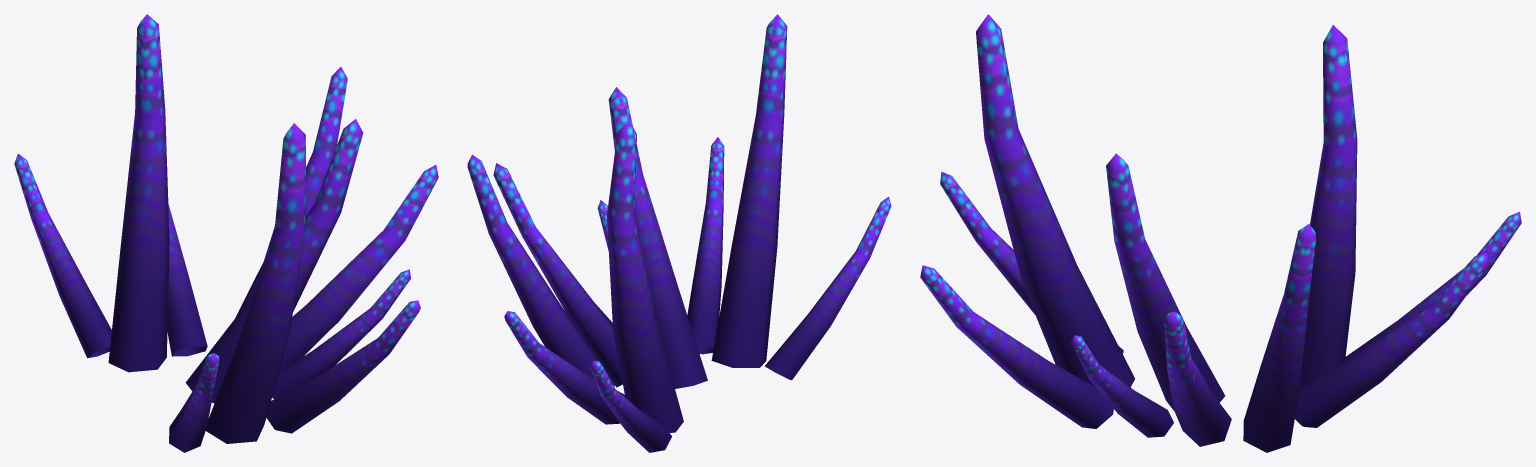
Rendered from Coral_09a.FBX.
3 renders of one model, left to right at view 1: azimuth 30°, elevation 25°; view 2: azimuth 150°, elevation 25°; view 3: azimuth 270°, elevation 25°, orthographic. The views are drawn at different scales.
Parts seen in each view (by area): view 1: Coral_09a; view 2: Coral_09a; view 3: Coral_09a.
Boxes of the visible parts, x1=… form: Coral_09a: x1=14, y1=14, x2=438, y2=452; Coral_09a: x1=467, y1=14, x2=891, y2=452; Coral_09a: x1=920, y1=14, x2=1521, y2=452.
Size of the model in its own units: 42.07 by 42.69 by 59.15.
